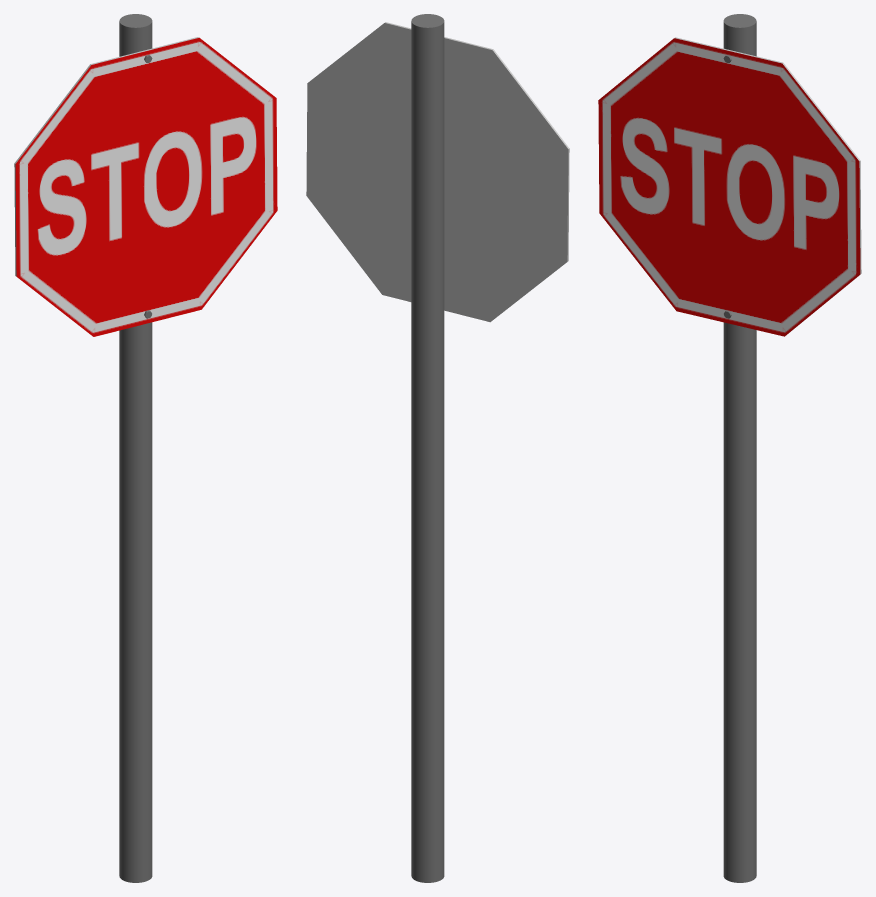
The model's file is stopsign.dae.
3 renders of one model, left to right at view 1: azimuth 30°, elevation 25°; view 2: azimuth 150°, elevation 25°; view 3: azimuth 330°, elevation 25°, orthographic.
Parts seen in each view (by area): view 1: sign, post; view 2: sign, post; view 3: sign, post.
Boxes of the visible parts, x1=… form: sign: x1=14, y1=37, x2=277, y2=336; post: x1=119, y1=14, x2=152, y2=882; sign: x1=306, y1=22, x2=569, y2=322; post: x1=411, y1=14, x2=444, y2=882; sign: x1=598, y1=37, x2=861, y2=336; post: x1=723, y1=14, x2=756, y2=882.
Size of the model in its own units: 1.86 by 0.2601 by 5.8.
3 materials, 1 textured.
